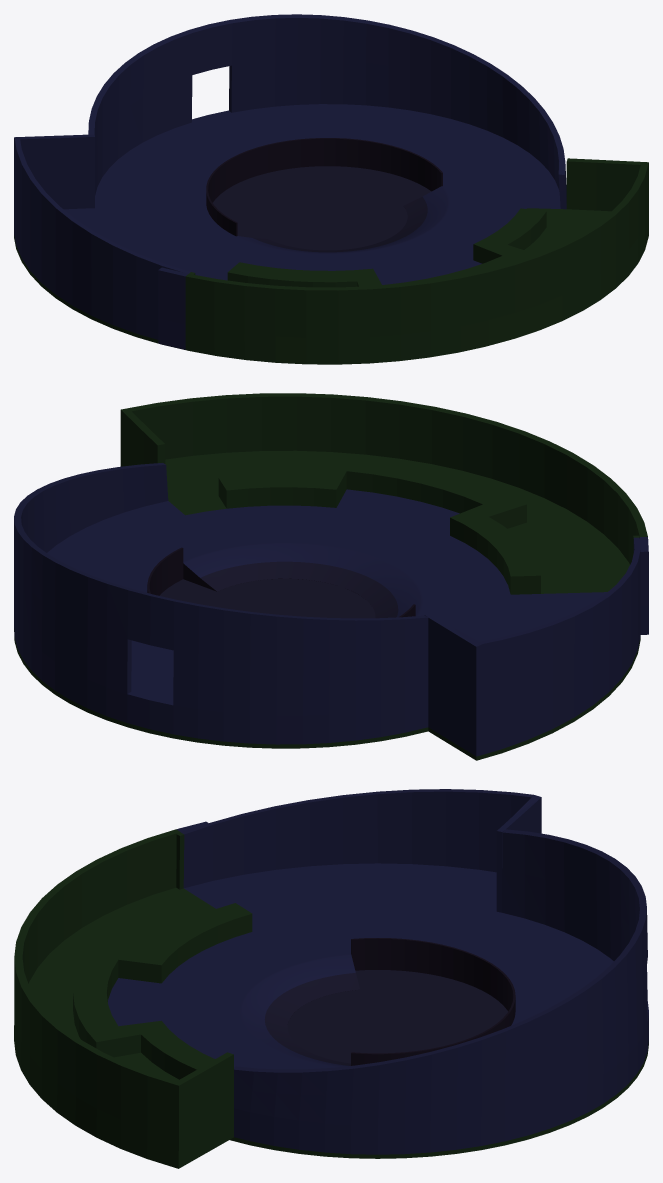
Rendered from Floorplan_Collision_Ramp.fbx.
3 renders of one model, top to bottom at view 1: azimuth 30°, elevation 25°; view 2: azimuth 150°, elevation 25°; view 3: azimuth 270°, elevation 25°, orthographic. The views are drawn at different scales.
Parts seen in each view (by area): view 1: Cylinder001; view 2: Cylinder001; view 3: Cylinder001.
Part boxes in pixels (bbox=[...]): Cylinder001: bbox=[14, 14, 648, 364]; Cylinder001: bbox=[14, 393, 648, 760]; Cylinder001: bbox=[14, 789, 648, 1168].
Bounding box in the file's own units: 1254 × 286 × 1205.
